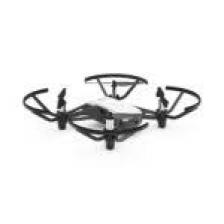drone: (21, 70, 202, 150)
